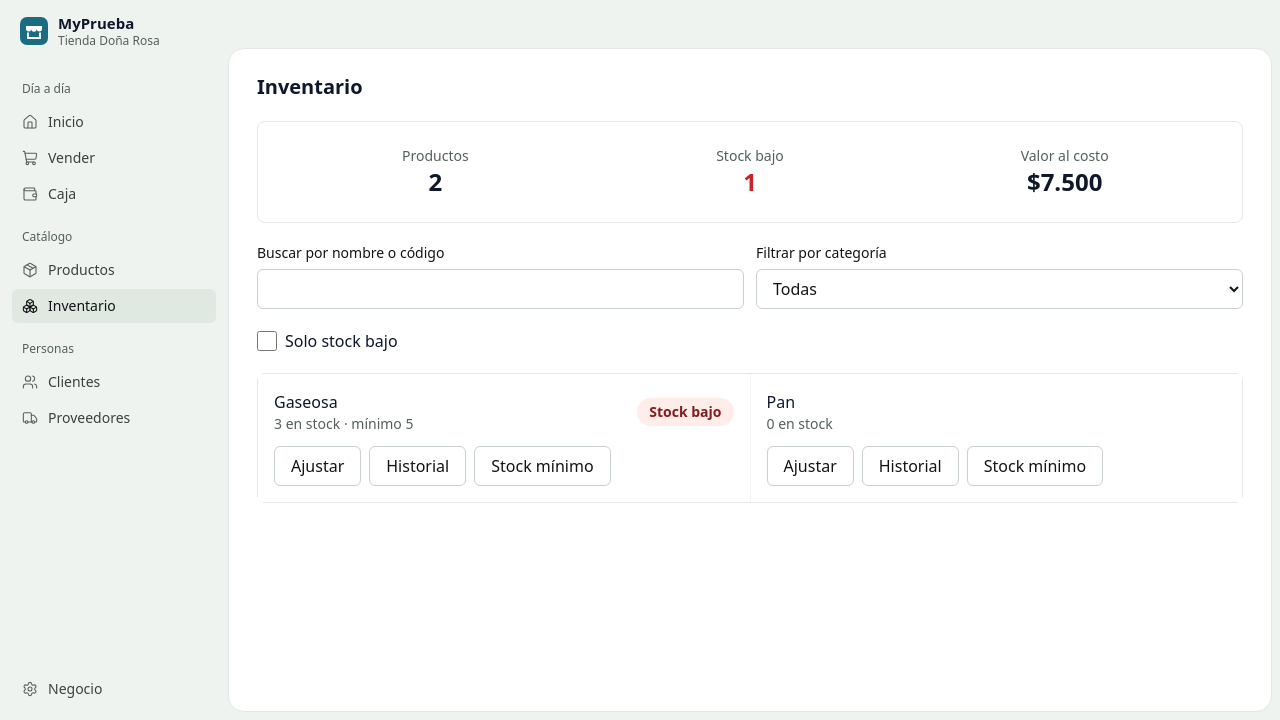
Test: inventory page › changes the minimum stock of a product
Click the button with aria-label "Stock mínimo de Pan": x=1035, y=466 [967,446,1103,486]
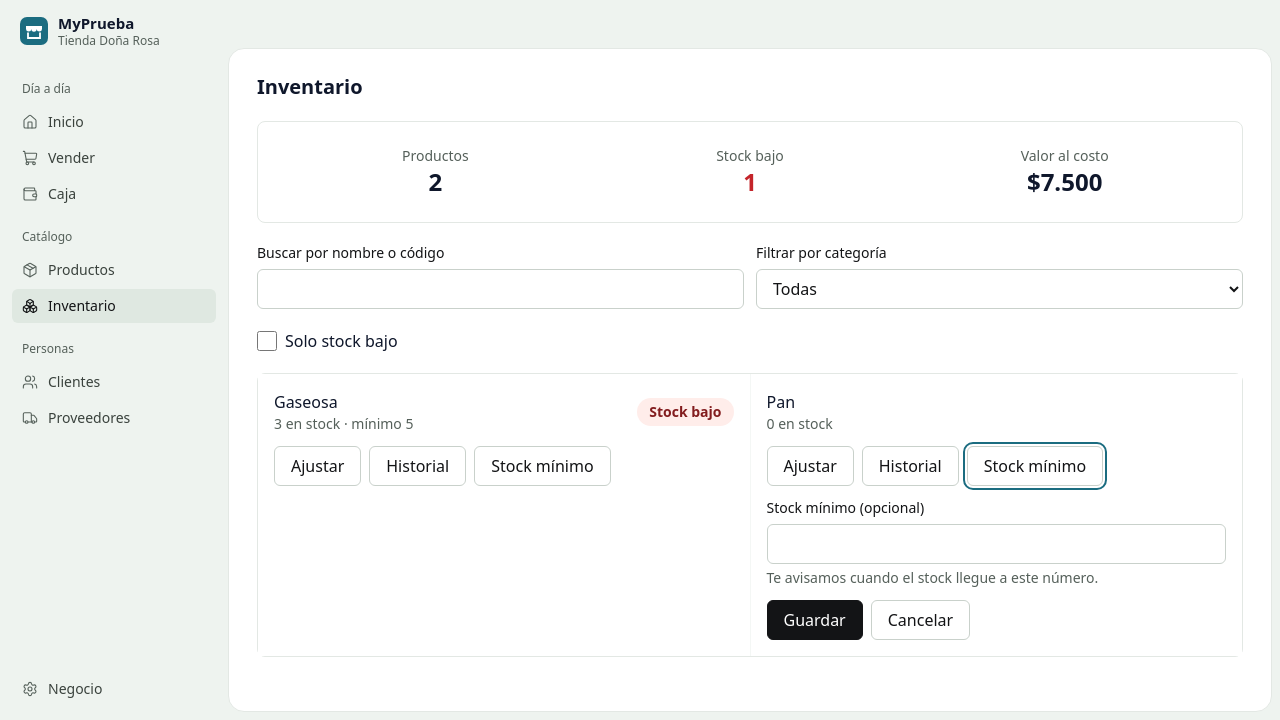
In the field labelled "Stock mínimo (opcional)": x=996, y=544 [766,524,1226,564], type "5"
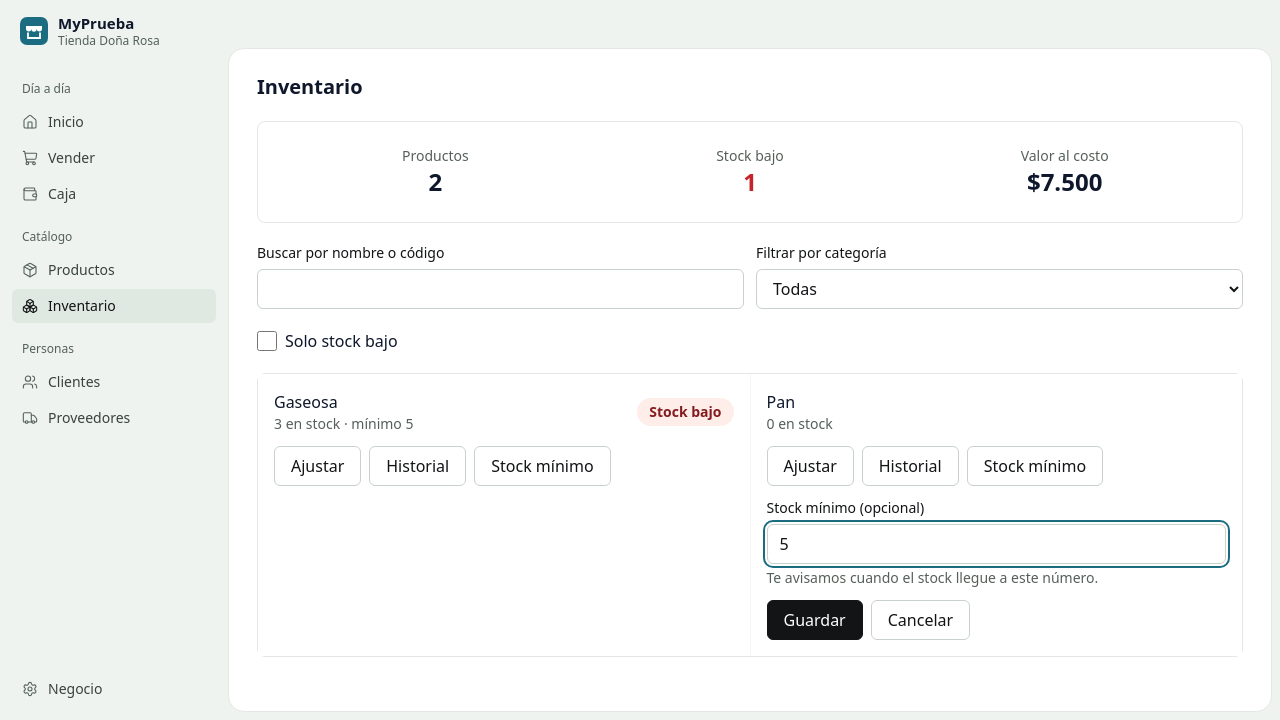
Click the button "Guardar": x=815, y=620 [766,600,863,640]
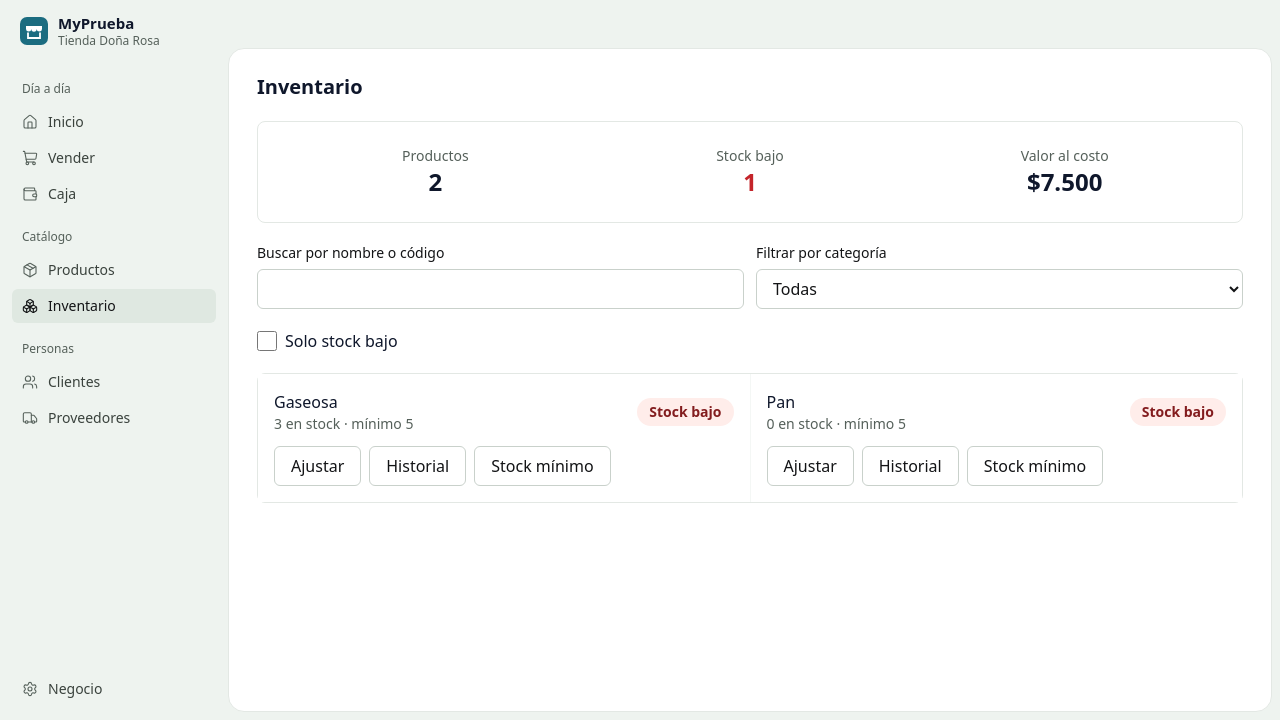
expect the text "Stock bajo" in the row of "Pan" is shown: met, box [1142,402,1214,421]
